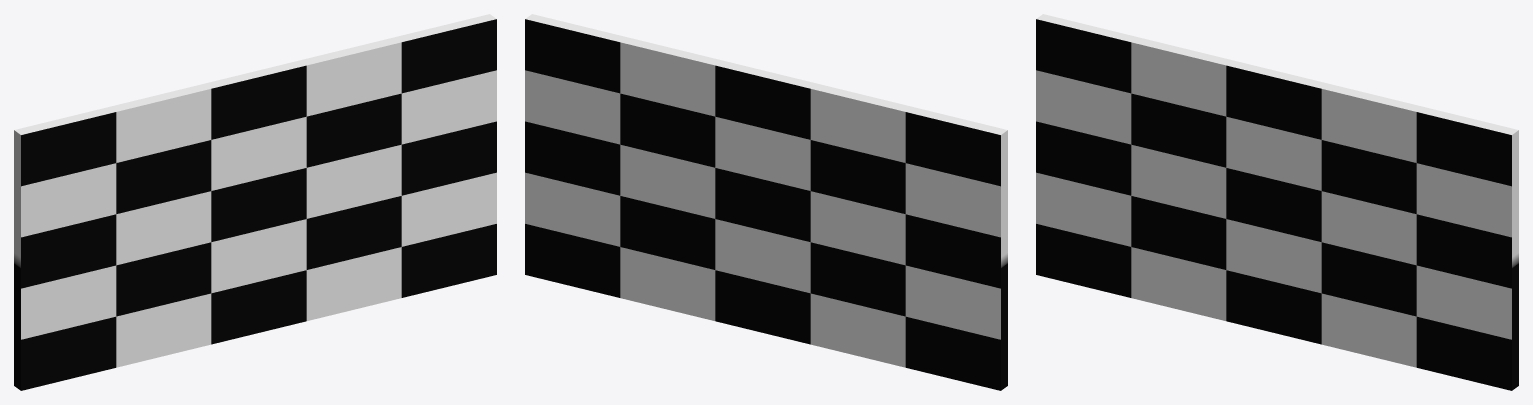
Rendered from BanderaTerminadafbx.fbx.
3 views of the same model, side by side, from view 1: azimuth 30°, elevation 25°; view 2: azimuth 150°, elevation 25°; view 3: azimuth 330°, elevation 25° (orthographic).
Parts seen in each view (by area): view 1: Cube; view 2: Cube; view 3: Cube.
Boxes of the visible parts, x1=… form: Cube: x1=14, y1=14, x2=496, y2=390; Cube: x1=525, y1=14, x2=1007, y2=390; Cube: x1=1036, y1=14, x2=1518, y2=390.
Size of the model in its own units: 280 by 144 by 7.1.
1 material, 1 textured.
